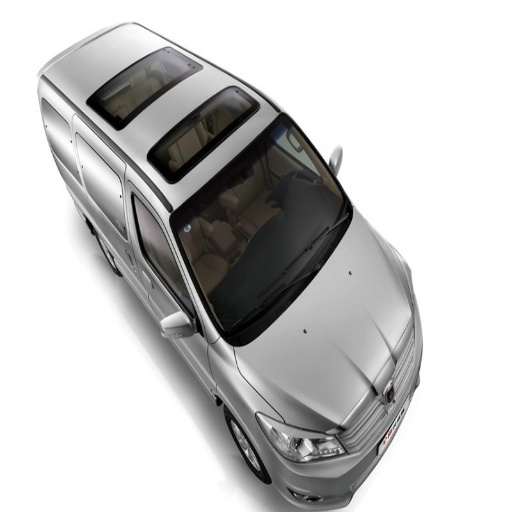back_glass: (71, 37, 182, 127)
front_bumper: (264, 444, 380, 511)
front_left_light: (169, 97, 253, 175)
front_right_door: (147, 228, 190, 314)
front_right_light: (273, 423, 344, 461)
